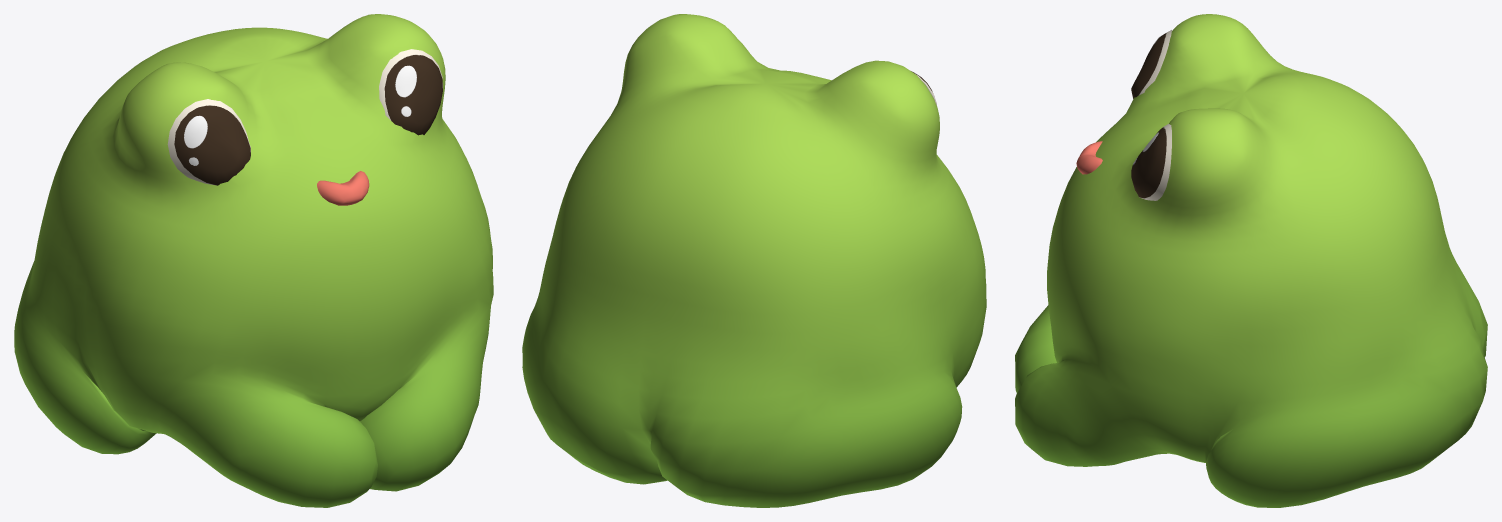
File: frog.fbx
3 renders of one model, left to right at view 1: azimuth 30°, elevation 25°; view 2: azimuth 150°, elevation 25°; view 3: azimuth 270°, elevation 25°, orthographic. The views are drawn at different scales.
Visible parts, largest first — view 1: frog, frog_eyes; view 2: frog; view 3: frog, frog_eyes.
Boxes of the visible parts, x1=… form: frog: x1=14, y1=14, x2=493, y2=507; frog_eyes: x1=167, y1=49, x2=442, y2=185; frog: x1=522, y1=14, x2=986, y2=507; frog: x1=1015, y1=14, x2=1487, y2=507; frog_eyes: x1=1131, y1=30, x2=1171, y2=200.
Size of the model in its own units: 1.23 by 1.11 by 1.27.
